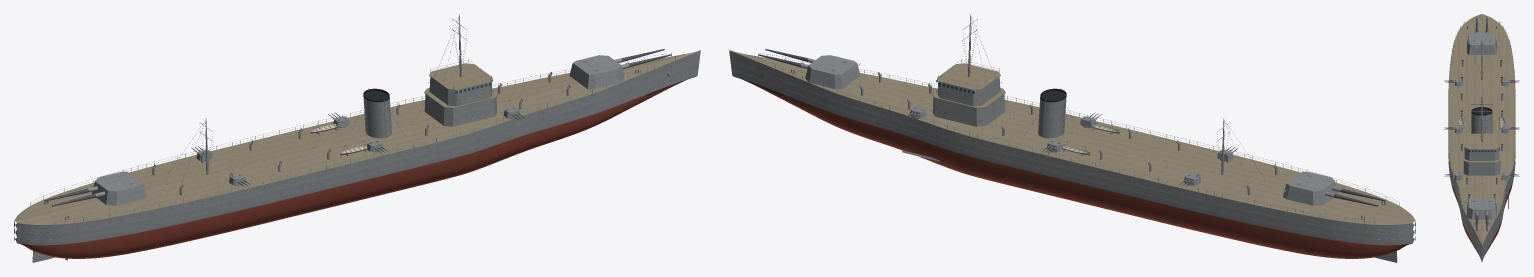
File: courageous_llc-campaign_1922.glb
3 views of the same model, side by side, from view 1: azimuth 30°, elevation 25°; view 2: azimuth 150°, elevation 25°; view 3: azimuth 270°, elevation 25° (orthographic). The views are drawn at different scales.
Visible parts, largest first — view 1: Courageous class (large light cruiser); view 2: Courageous class (large light cruiser); view 3: Courageous class (large light cruiser).
Boxes of the visible parts, x1,y1,x2,y2 form: Courageous class (large light cruiser): (14, 14, 700, 262); Courageous class (large light cruiser): (729, 14, 1415, 262); Courageous class (large light cruiser): (1444, 14, 1519, 261).
Size of the model in its own units: 175 by 35.8 by 23.68.
8 materials, 2 textured.
